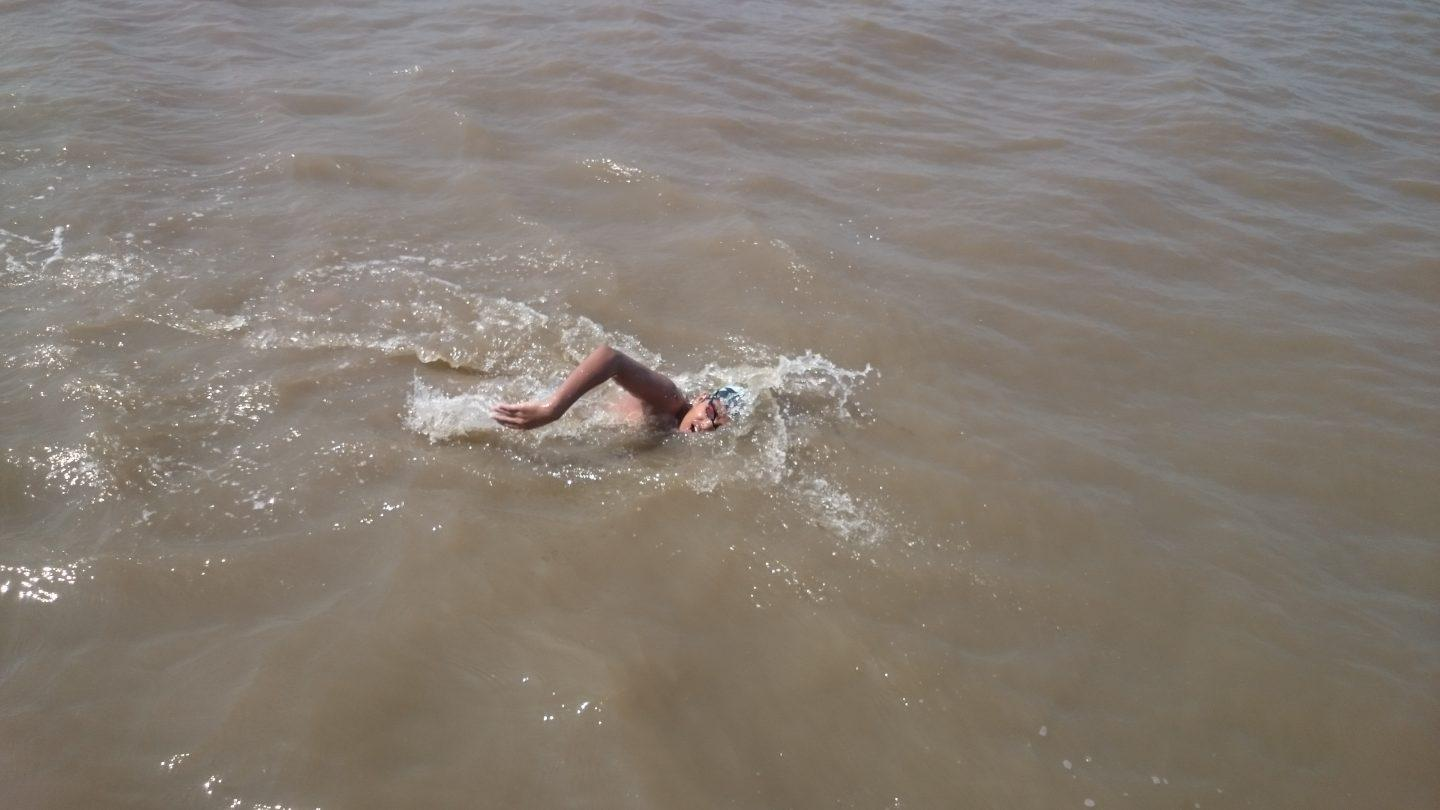human: (490, 340, 758, 449)
